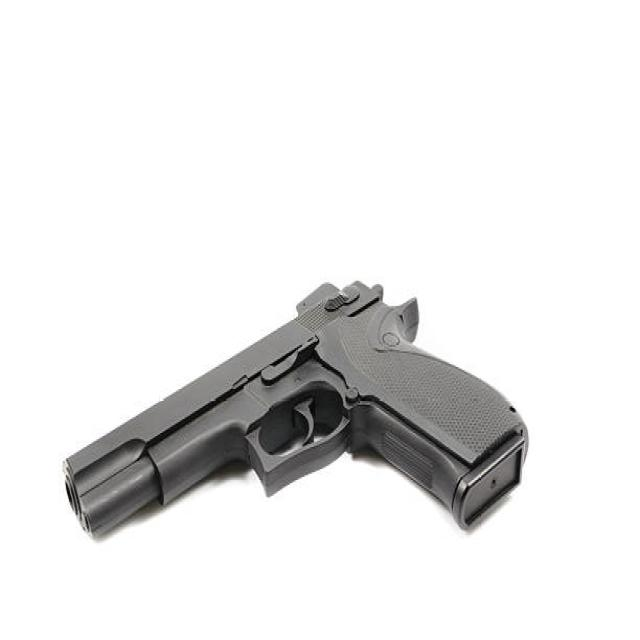pistol: (55, 262, 534, 554)
